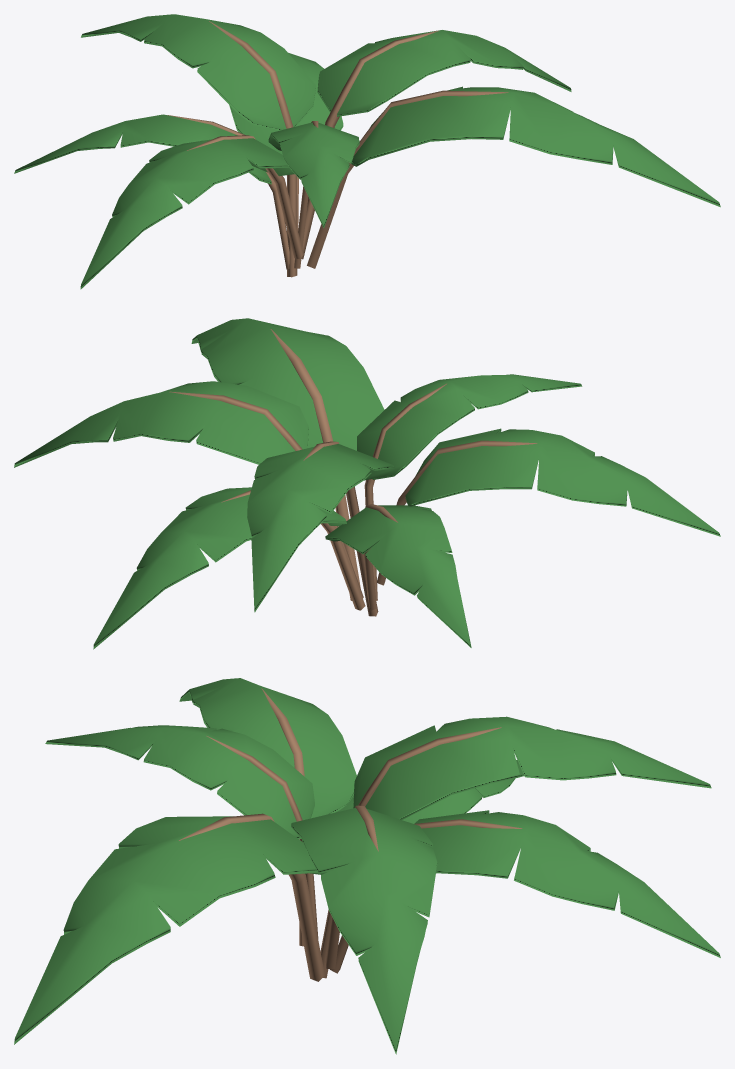
Rendered from Hierba_alta.fbx.
3 views of the same model, one above another, from view 1: azimuth 30°, elevation 25°; view 2: azimuth 150°, elevation 25°; view 3: azimuth 270°, elevation 25° (orthographic). The views are drawn at different scales.
Visible parts, largest first — view 1: Hierba_alta; view 2: Hierba_alta; view 3: Hierba_alta.
Part boxes in pixels (x1,y1,x2,y2): Hierba_alta: (14,14,720,289); Hierba_alta: (14,318,720,649); Hierba_alta: (14,678,720,1054).
Size of the model in its own units: 2.17 by 0.7282 by 1.9.
